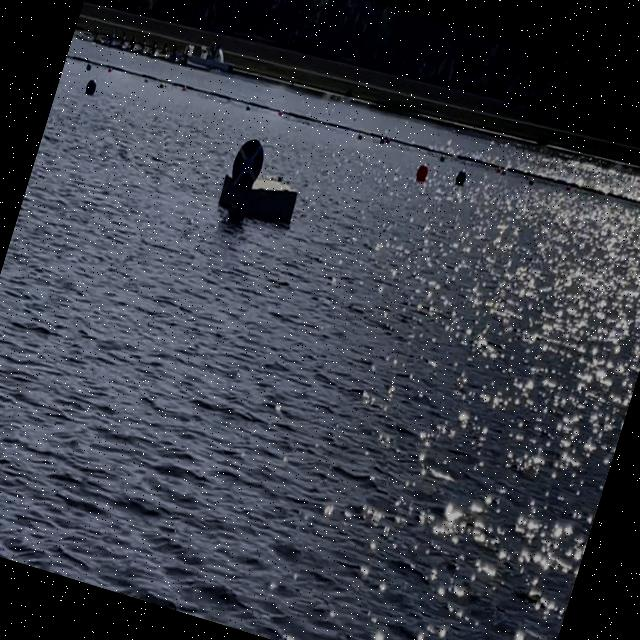buoy: (404, 149, 442, 201), (444, 161, 479, 204), (79, 72, 104, 103)
